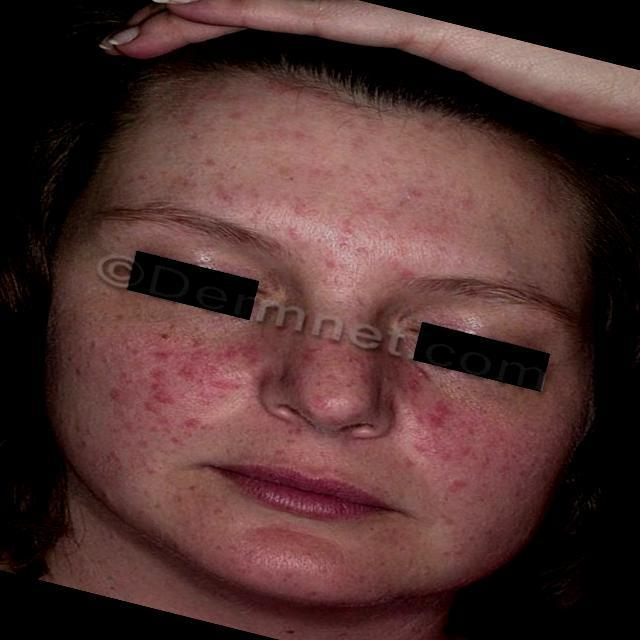skinredness: (48, 82, 598, 587)
